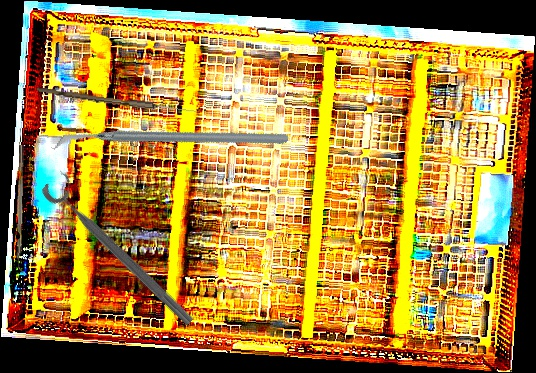Chopper: (51, 48, 290, 235), (14, 144, 31, 276)
Fixation Ring: (39, 167, 206, 331)
Surgical Spoon: (36, 87, 197, 115)
